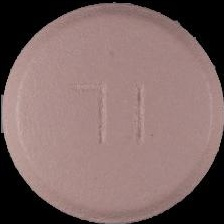0078-0485: (0, 0, 224, 224)
